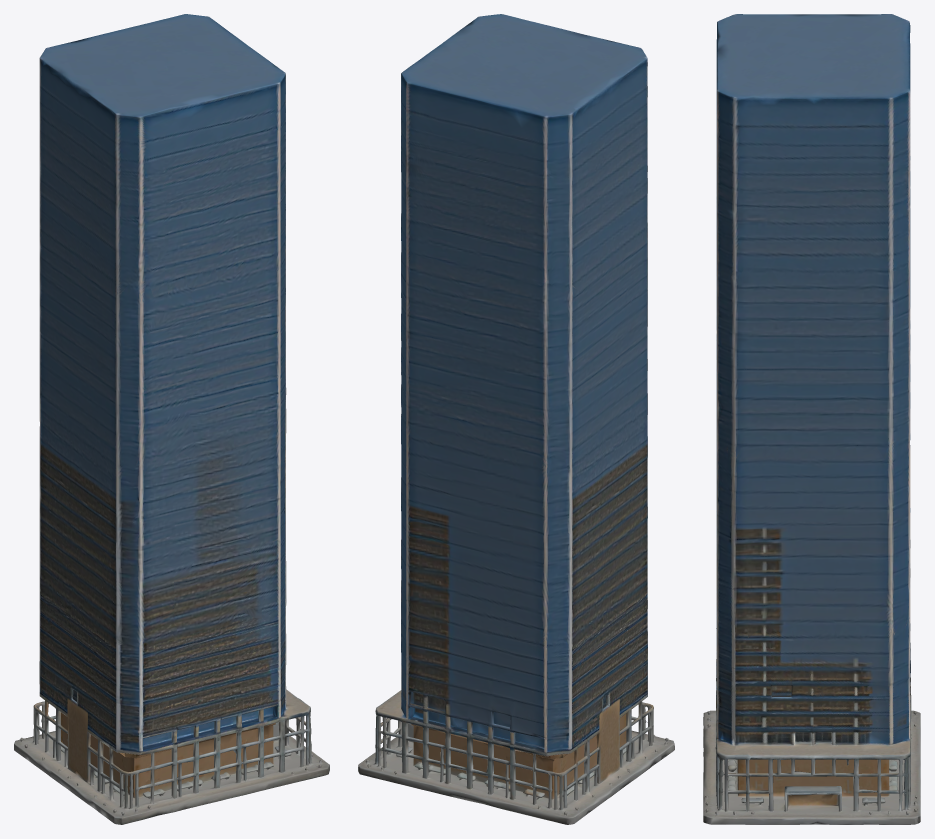
Rendered from brookfield.glb.
The picture shows the model from 3 angles, left to right: view 1: azimuth 30°, elevation 25°; view 2: azimuth 150°, elevation 25°; view 3: azimuth 270°, elevation 25°; orthographic projection.
Visible parts, largest first — view 1: tripo_node_9a13482b-b2db-4b31-8af7-93f35c0e08d8; view 2: tripo_node_9a13482b-b2db-4b31-8af7-93f35c0e08d8; view 3: tripo_node_9a13482b-b2db-4b31-8af7-93f35c0e08d8.
Boxes of the visible parts, box(x1,y1,x2,y2) form: tripo_node_9a13482b-b2db-4b31-8af7-93f35c0e08d8: box(14, 14, 329, 824); tripo_node_9a13482b-b2db-4b31-8af7-93f35c0e08d8: box(358, 14, 674, 824); tripo_node_9a13482b-b2db-4b31-8af7-93f35c0e08d8: box(703, 14, 920, 824).
Bounding box in the file's own units: 0.3248 × 1 × 0.2772.
Materials: 1 (1 with a texture image).
